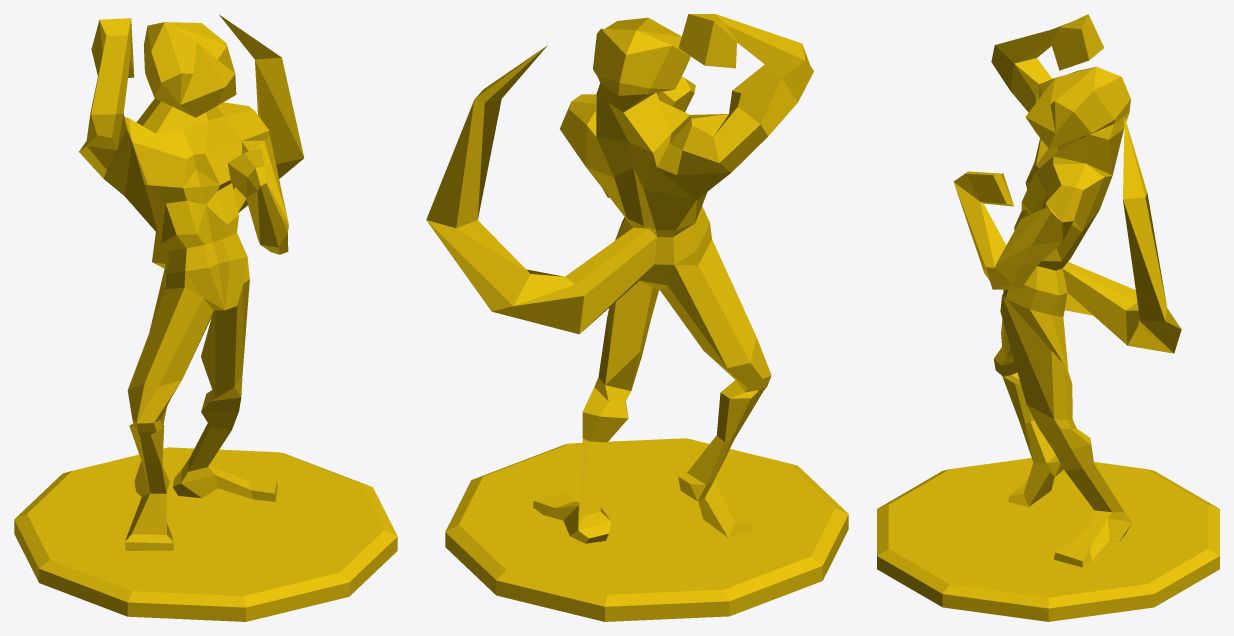
Rendered from Asset_NewtStatue_01.fbx.
3 views of the same model, side by side, from view 1: azimuth 30°, elevation 25°; view 2: azimuth 150°, elevation 25°; view 3: azimuth 270°, elevation 25° (orthographic). The views are drawn at different scales.
Parts seen in each view (by area): view 1: pCube2; view 2: pCube2; view 3: pCube2.
Boxes of the visible parts, box(x1,y1,x2,y2) form: pCube2: box(14, 14, 397, 621); pCube2: box(426, 14, 848, 621); pCube2: box(877, 14, 1219, 621).
Bounding box in the file's own units: 23.81 × 35.95 × 22.64.
